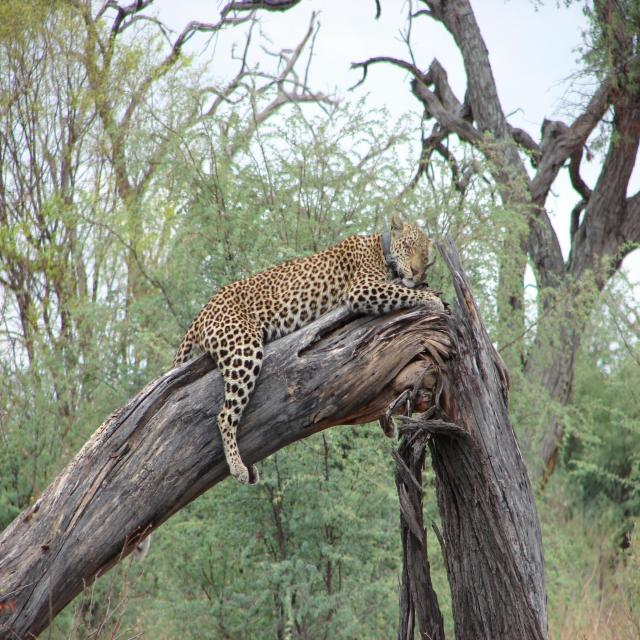Leopard: (132, 213, 446, 571)
